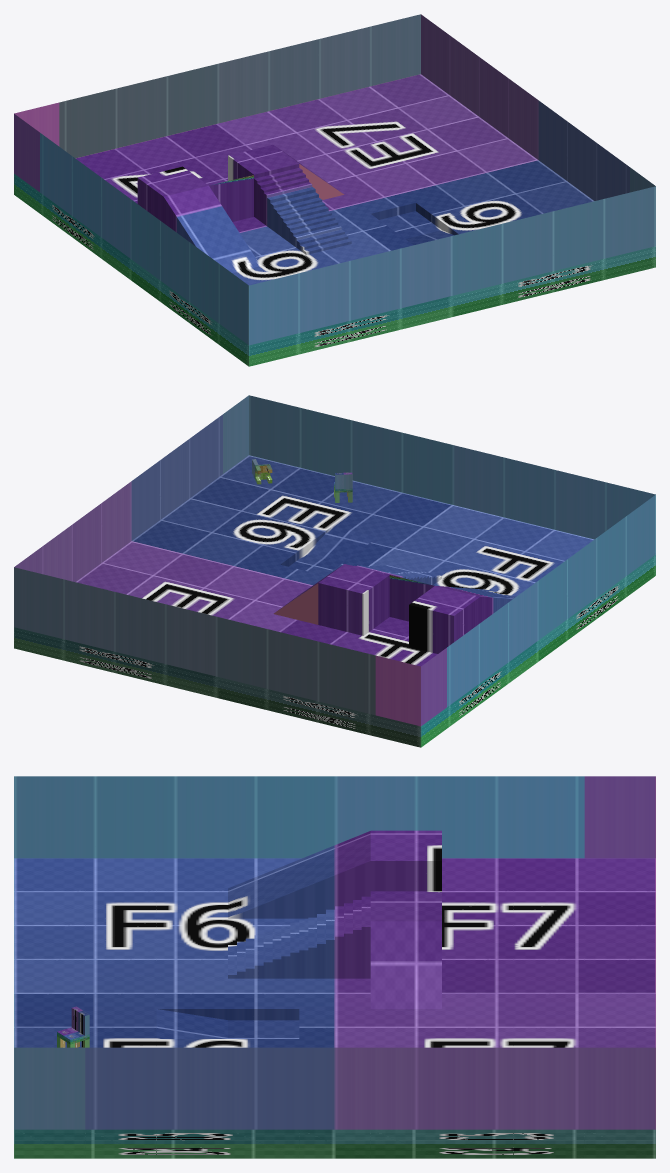
File: test_area.obj
3 views of the same model, one above another, from view 1: azimuth 30°, elevation 25°; view 2: azimuth 150°, elevation 25°; view 3: azimuth 270°, elevation 25° (orthographic). The views are drawn at different scales.
Parts seen in each view (by area): view 1: Cube; view 2: Cube; view 3: Cube.
Part boxes in pixels (left/top/right/bottom): Cube: left=14, top=14, right=655, bottom=366; Cube: left=14, top=395, right=655, bottom=747; Cube: left=14, top=776, right=655, bottom=1158.
Bounding box in the file's own units: 20 × 3.81 × 20.
1 material, 1 textured.
